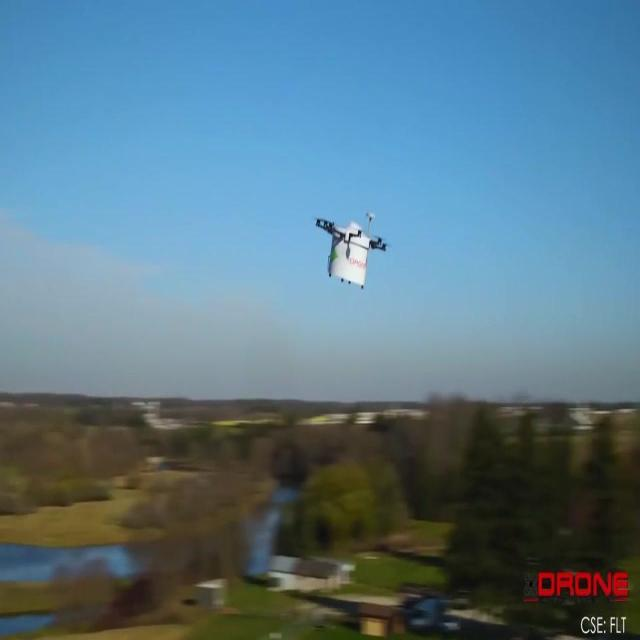drone: (314, 211, 391, 290)
